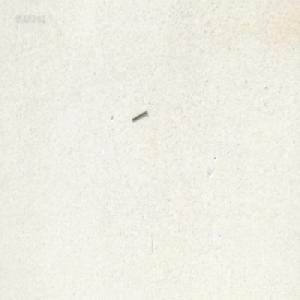Bolt: (131, 108, 147, 121)
